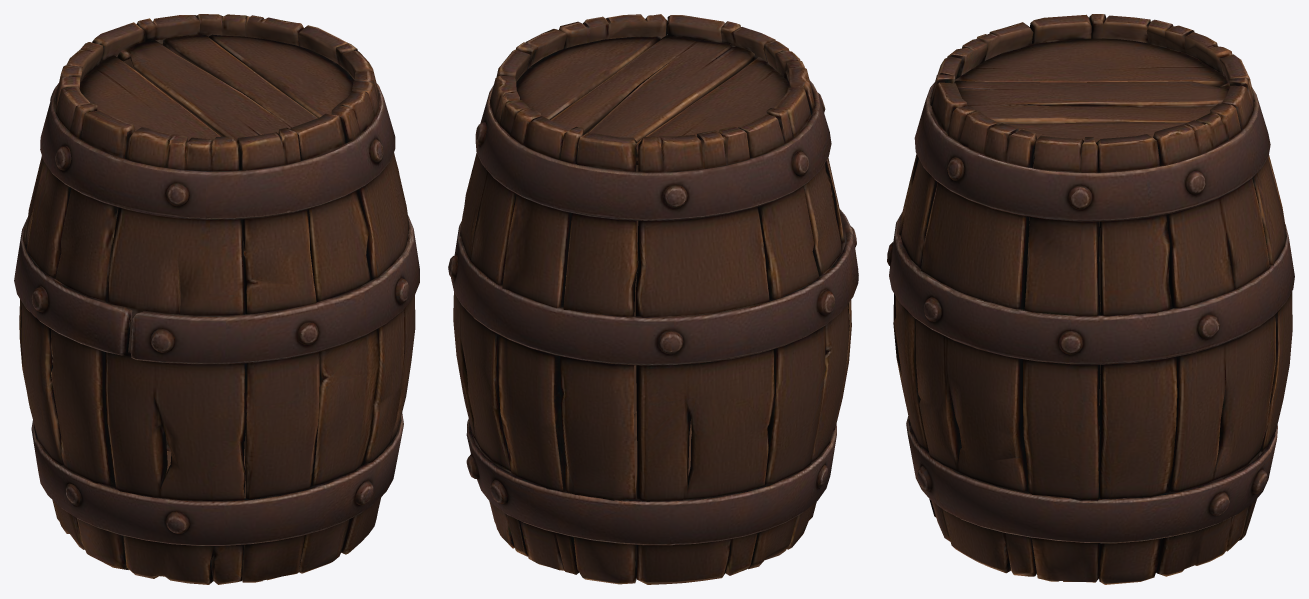
The model's file is prop_barrel.glb.
3 views of the same model, side by side, from view 1: azimuth 30°, elevation 25°; view 2: azimuth 150°, elevation 25°; view 3: azimuth 270°, elevation 25° (orthographic).
Parts seen in each view (by area): view 1: tripo_node_d15d0d09-79f6-44af-a6fa-a6043a4a9bf6; view 2: tripo_node_d15d0d09-79f6-44af-a6fa-a6043a4a9bf6; view 3: tripo_node_d15d0d09-79f6-44af-a6fa-a6043a4a9bf6.
Boxes of the visible parts, x1,y1,x2,y2 form: tripo_node_d15d0d09-79f6-44af-a6fa-a6043a4a9bf6: [14, 14, 419, 584]; tripo_node_d15d0d09-79f6-44af-a6fa-a6043a4a9bf6: [448, 14, 858, 584]; tripo_node_d15d0d09-79f6-44af-a6fa-a6043a4a9bf6: [887, 14, 1294, 584].
Bounding box in the file's own units: 0.8433 × 0.9995 × 0.8345.
Materials: 1 (1 with a texture image).
